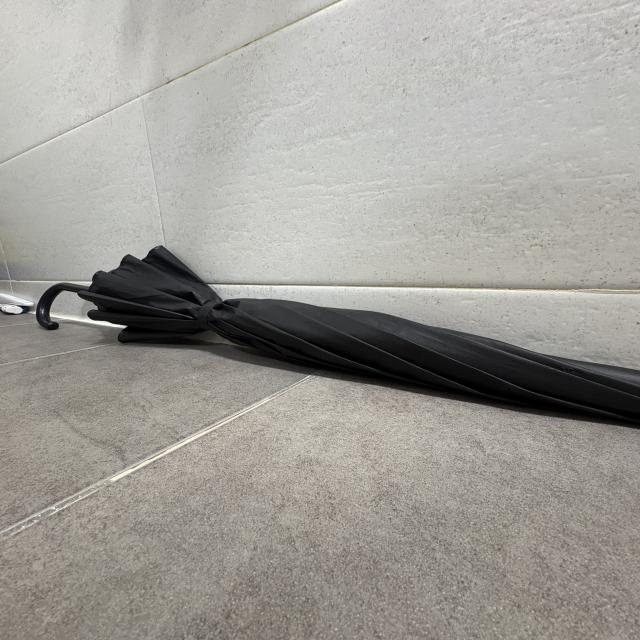umbrella: (40, 244, 640, 426)
